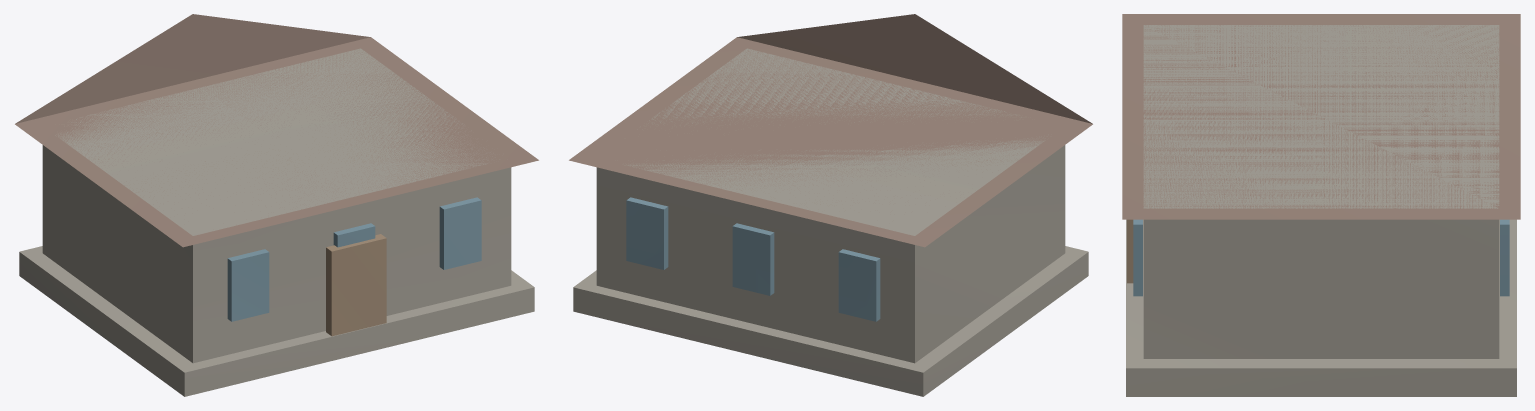
File: townhouse-00.glb
3 views of the same model, side by side, from view 1: azimuth 30°, elevation 25°; view 2: azimuth 150°, elevation 25°; view 3: azimuth 270°, elevation 25° (orthographic). The views are drawn at different scales.
Parts seen in each view (by area): view 1: world; view 2: world; view 3: world.
Boxes of the visible parts, x1,y1,x2,y2 form: world: (15,14,538,396); world: (569,14,1092,396); world: (1122,14,1520,396).
Bounding box in the file's own units: 1.23 × 0.72 × 1.01.
